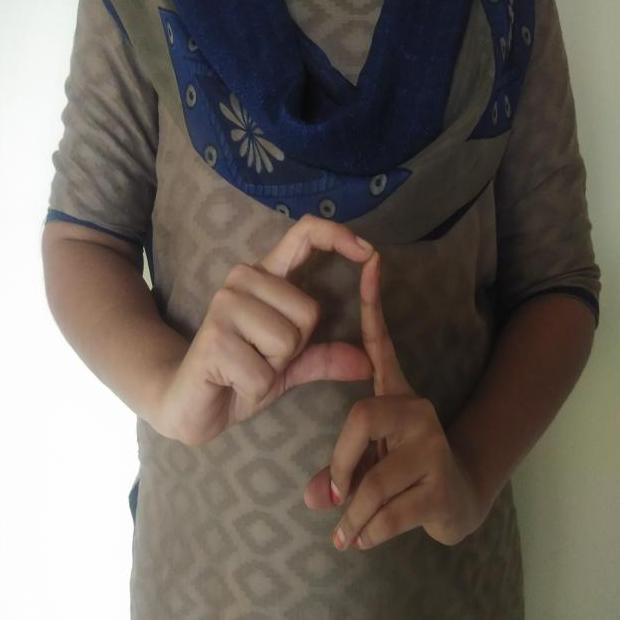C: (170, 204, 495, 565)
